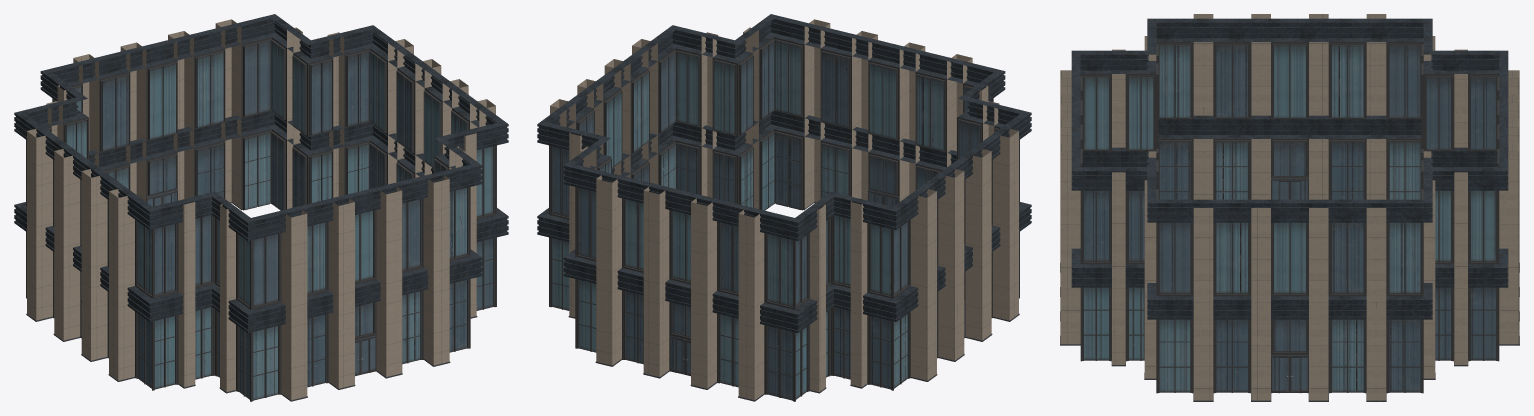
The model's file is jctBld24_B_btm.fbx.
The picture shows the model from 3 angles, left to right: view 1: azimuth 30°, elevation 25°; view 2: azimuth 150°, elevation 25°; view 3: azimuth 270°, elevation 25°; orthographic projection. The views are drawn at different scales.
Visible parts, largest first — view 1: jctBld24_B_btm_LOD0; view 2: jctBld24_B_btm_LOD0; view 3: jctBld24_B_btm_LOD0.
Boxes of the visible parts, bbox=[...] form: jctBld24_B_btm_LOD0: bbox=[14, 14, 508, 401]; jctBld24_B_btm_LOD0: bbox=[537, 14, 1031, 401]; jctBld24_B_btm_LOD0: bbox=[1060, 14, 1519, 401].
Size of the model in its own units: 2582 by 1200 by 2582.
